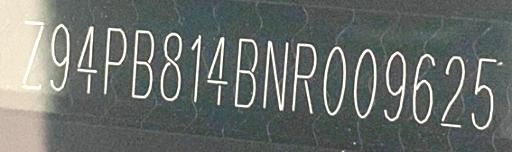letter: (466, 54, 502, 130), (259, 38, 289, 112), (409, 49, 437, 128), (438, 53, 466, 131), (290, 41, 318, 115), (350, 48, 378, 122), (380, 49, 408, 123), (320, 45, 348, 117), (130, 28, 156, 103), (158, 31, 184, 105), (19, 18, 45, 91), (102, 26, 128, 99), (232, 37, 258, 109), (47, 21, 73, 92), (206, 37, 230, 112), (76, 24, 100, 97), (186, 33, 204, 109)
